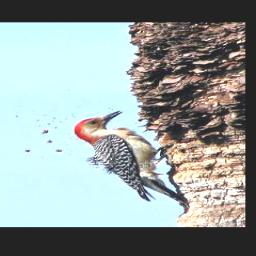Woodpecker: (71, 110, 191, 206)
